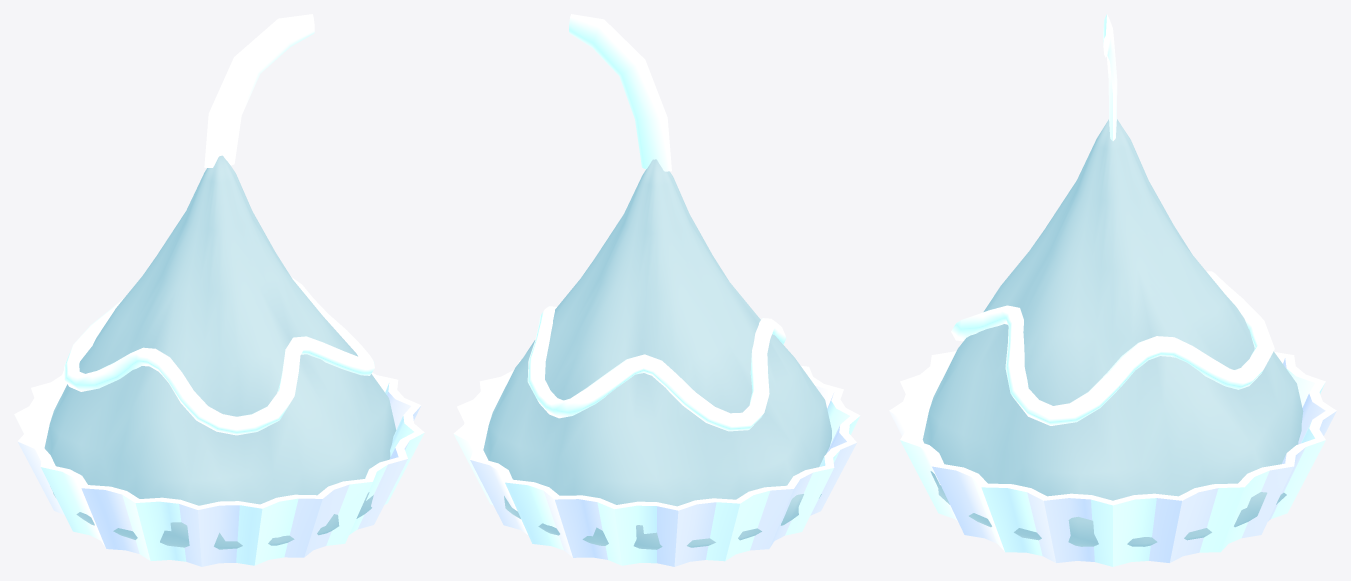
Rendered from props__CandyTruffle.glb.
3 views of the same model, side by side, from view 1: azimuth 30°, elevation 25°; view 2: azimuth 150°, elevation 25°; view 3: azimuth 270°, elevation 25° (orthographic). The views are drawn at different scales.
Visible parts, largest first — view 1: CandyTruffle; view 2: CandyTruffle; view 3: CandyTruffle.
Part boxes in pixels (left/top/right/bottom): CandyTruffle: left=14, top=14, right=424, bottom=566; CandyTruffle: left=453, top=14, right=860, bottom=566; CandyTruffle: left=889, top=14, right=1336, bottom=566.
Size of the model in its own units: 7.49 by 9.31 by 7.49.
